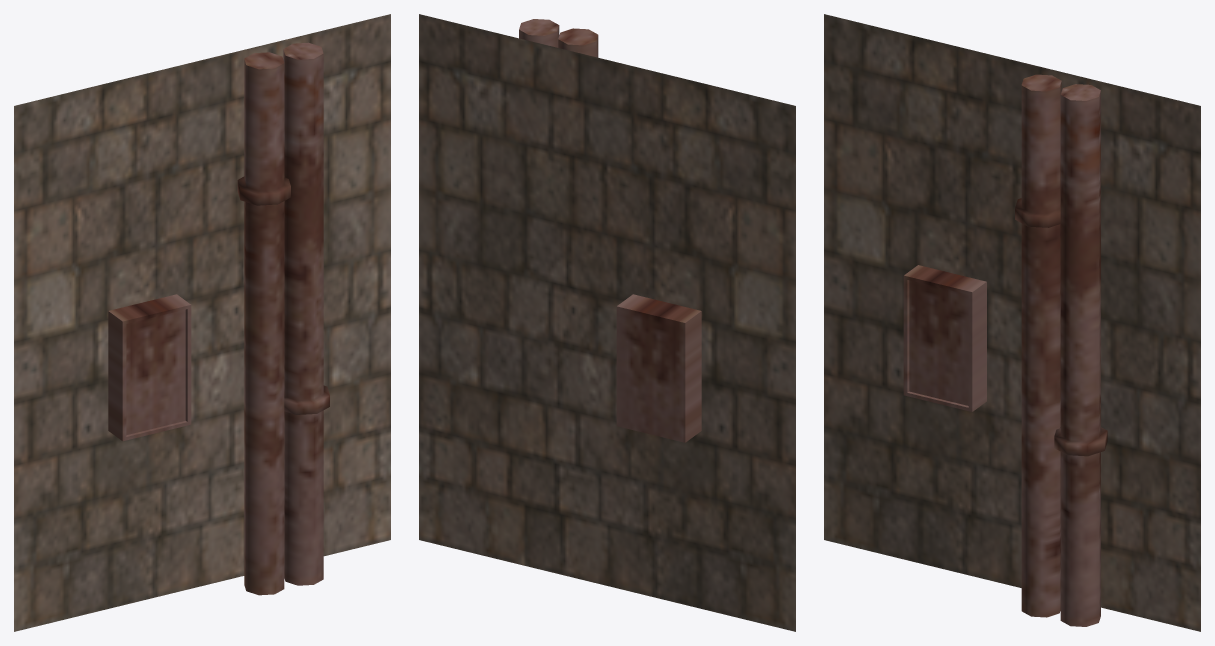
Rendered from WallPipes.fbx.
3 renders of one model, left to right at view 1: azimuth 30°, elevation 25°; view 2: azimuth 150°, elevation 25°; view 3: azimuth 330°, elevation 25°, orthographic.
Visible parts, largest first — view 1: WallDefaultPipes2; view 2: WallDefaultPipes2; view 3: WallDefaultPipes2.
Part boxes in pixels (x1=…): WallDefaultPipes2: x1=14, y1=14, x2=390, y2=631; WallDefaultPipes2: x1=419, y1=14, x2=795, y2=631; WallDefaultPipes2: x1=824, y1=14, x2=1200, y2=631.
Size of the model in its own units: 3 by 4 by 0.6427.
